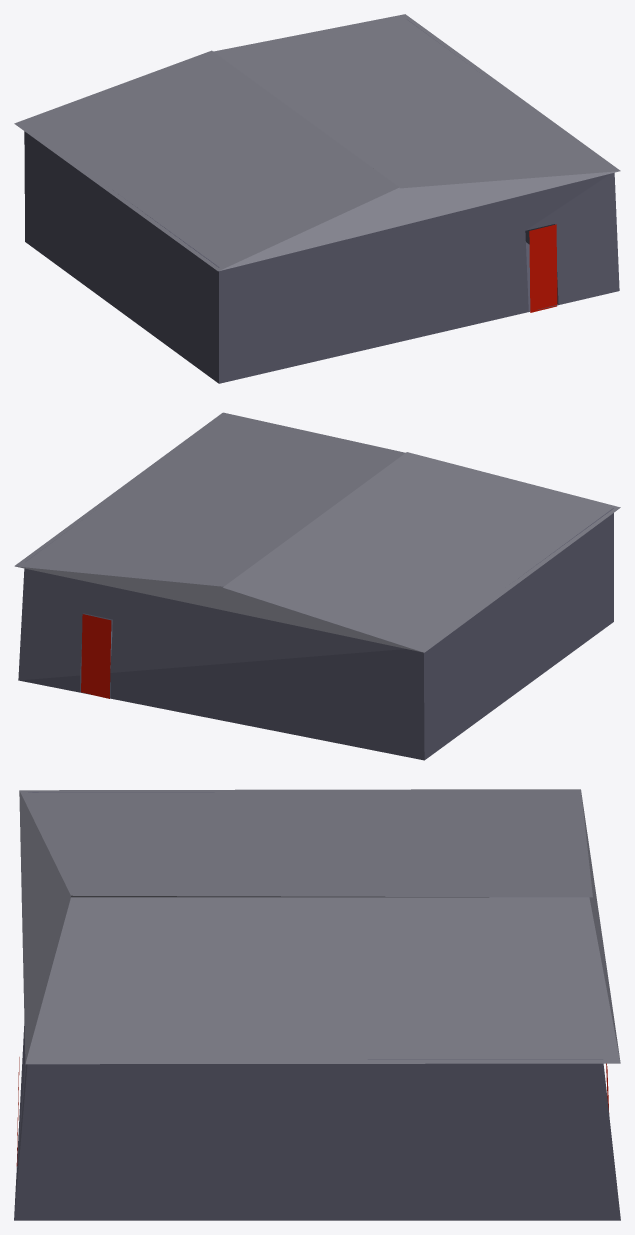
The model's file is house.fbx.
The picture shows the model from 3 angles, top to bottom: view 1: azimuth 30°, elevation 25°; view 2: azimuth 150°, elevation 25°; view 3: azimuth 270°, elevation 25°; orthographic projection. The views are drawn at different scales.
Parts seen in each view (by area): view 1: Cube.001, Cube, Plane.002; view 2: Cube.001, Cube, Plane.001; view 3: Cube.001, Cube.
Part boxes in pixels (x1,y1,x2,y2): Cube.001: (14,14,620,271); Cube: (24,19,619,383); Plane.002: (529,224,557,312); Cube.001: (14,412,620,652); Cube: (18,508,613,760); Plane.001: (81,614,111,698); Cube.001: (19,789,620,1064); Cube: (14,792,620,1220).
Size of the model in its own units: 1910 by 621 by 1782.
